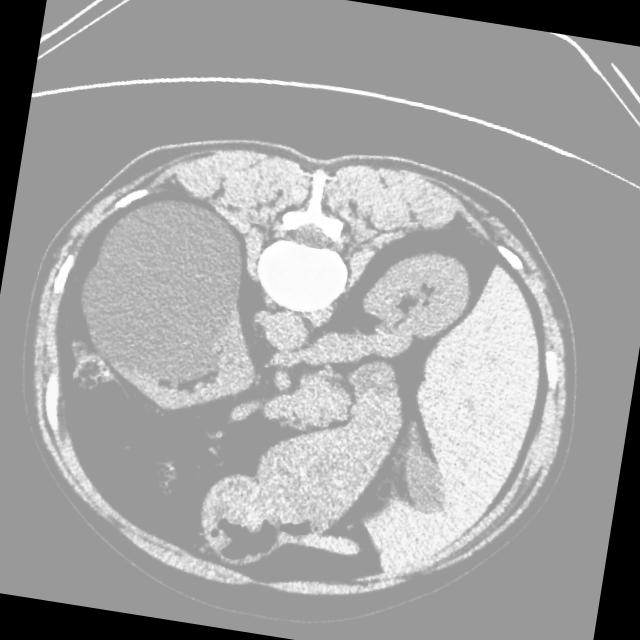cysts: (0, 106, 606, 640)
